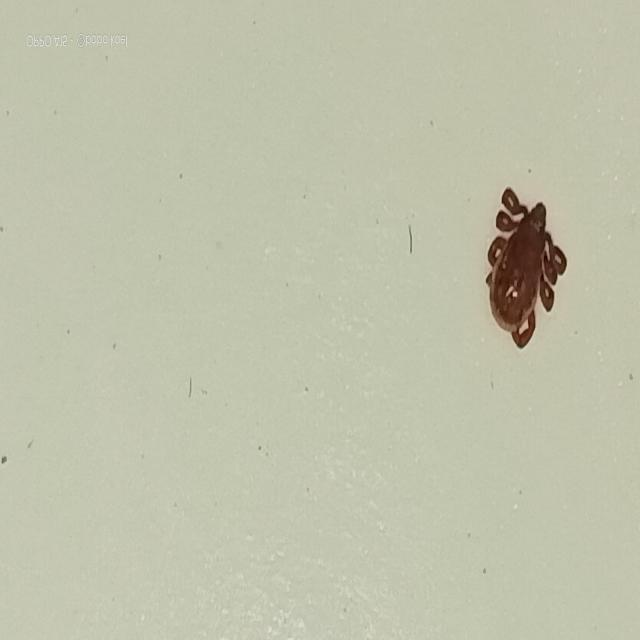Rhipicephalus Sanguineus-M: (487, 182, 568, 356)
